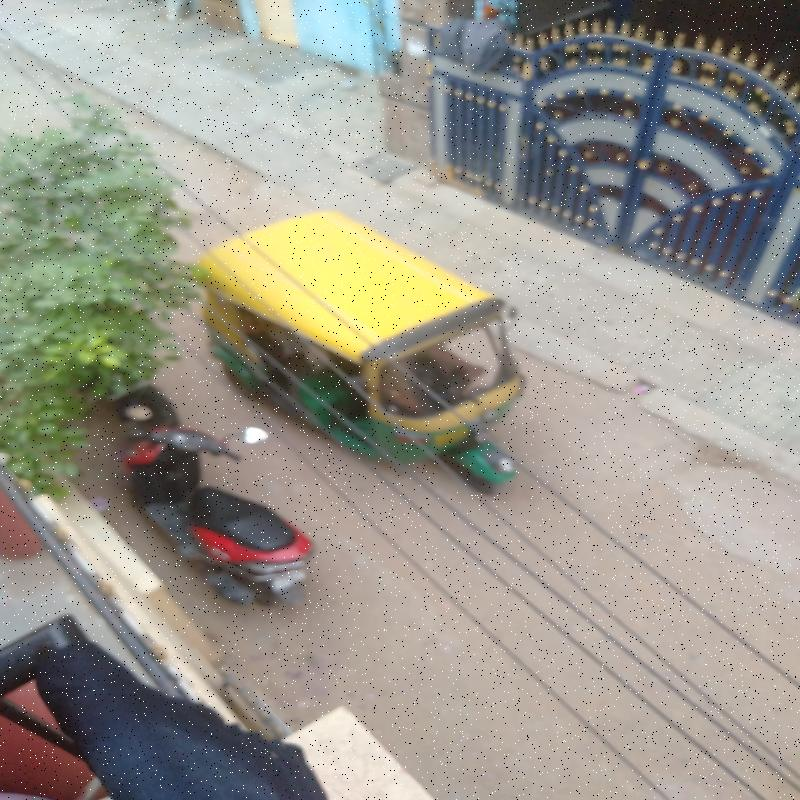auto: (226, 204, 527, 441)
